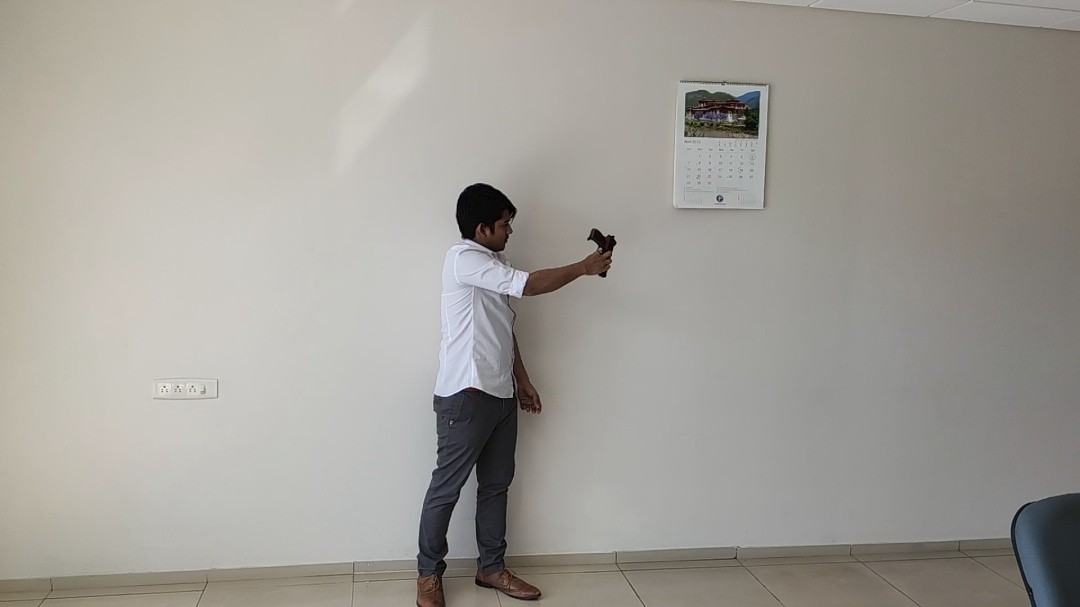gun: (273, 156, 638, 459)
